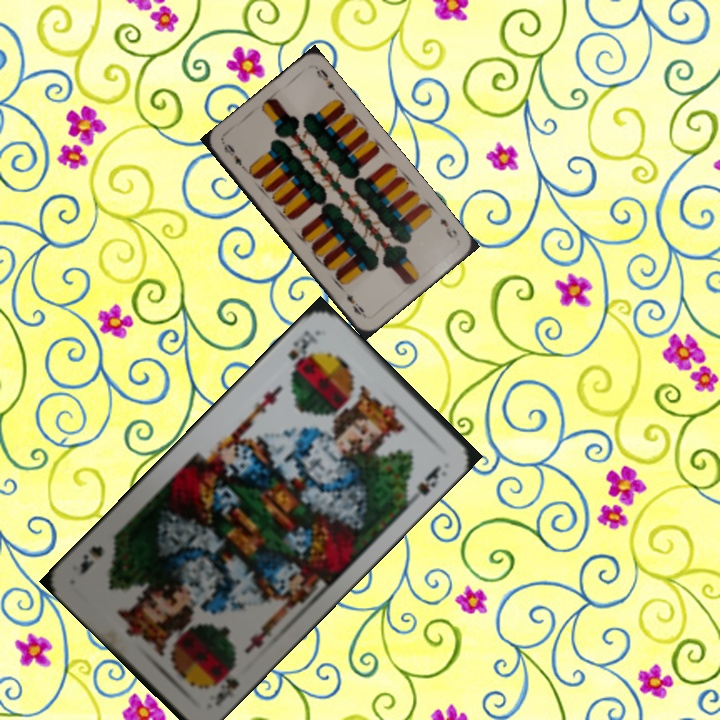E9: (220, 140, 249, 173), (436, 214, 460, 242)
SK: (208, 657, 242, 709), (283, 326, 321, 369)
